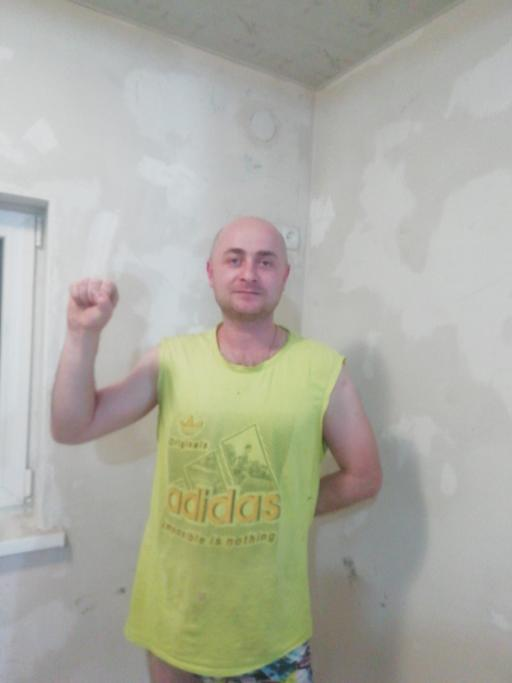fist: (65, 276, 120, 334)
